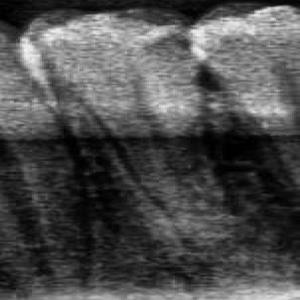tooth: (13, 5, 229, 252), (188, 4, 300, 195)
